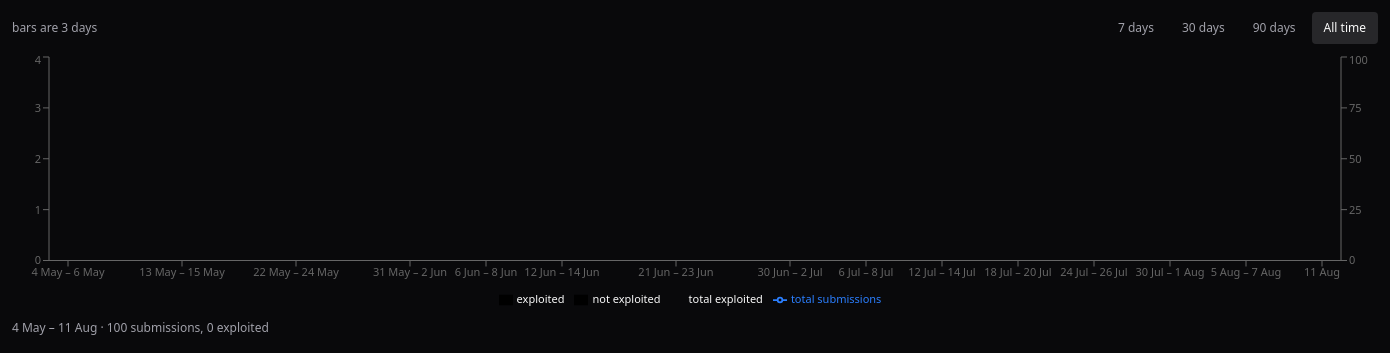
Test: SubmissionsTimelineChart — time range › narrows the drawn window, its totals and its caption to the picked range
Click the radio button labelled "7 days": [1136, 28] box x1=1106 y1=12 x2=1166 y2=44
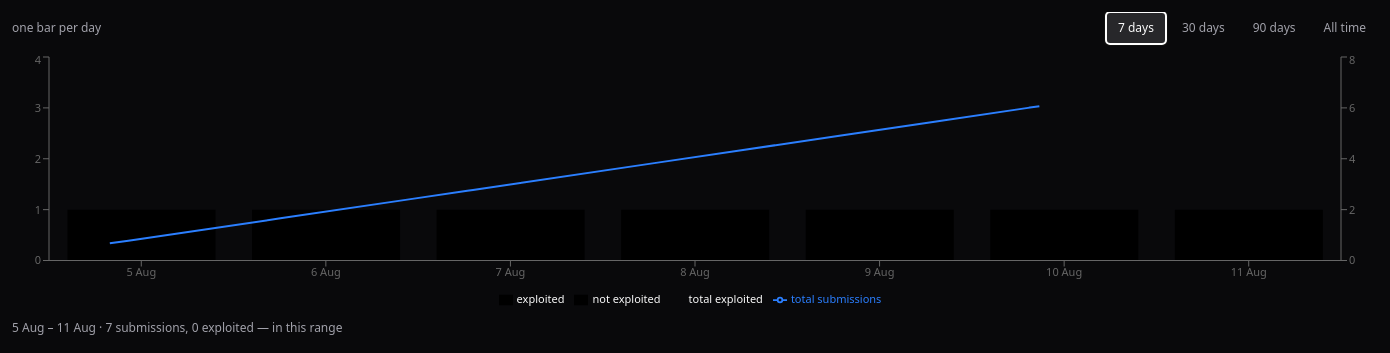
Result: the text "5 Aug – 11 Aug · 7 submissions, 0 exploited — in this range" is shown at x1=12 y1=320 x2=342 y2=336
Result: the text "one bar per day" is shown at x1=12 y1=20 x2=101 y2=36
